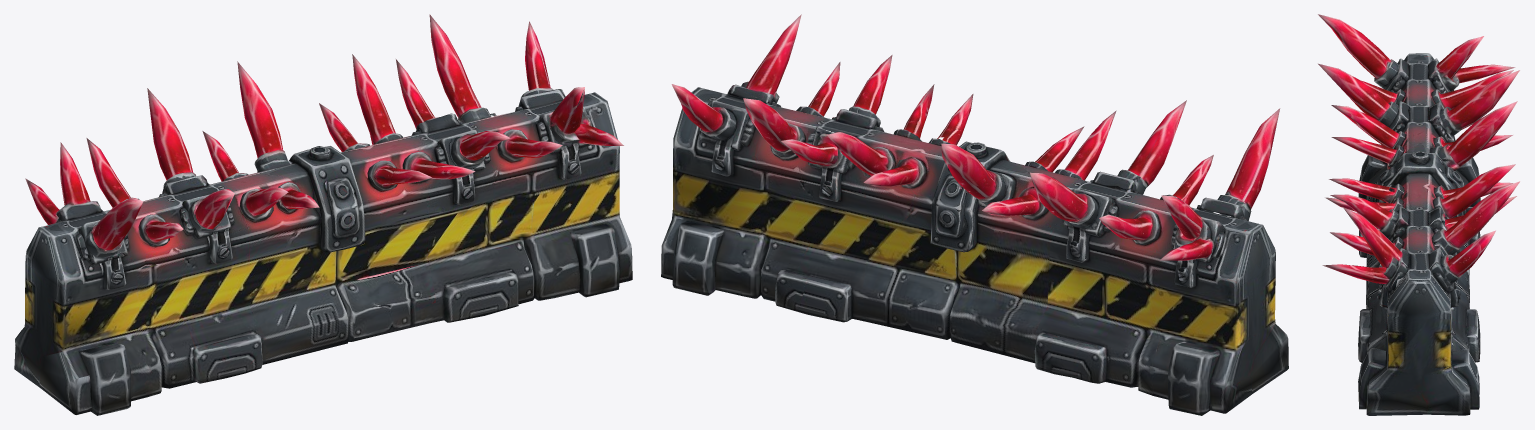
File: barricade.glb
3 views of the same model, side by side, from view 1: azimuth 30°, elevation 25°; view 2: azimuth 150°, elevation 25°; view 3: azimuth 270°, elevation 25° (orthographic). The views are drawn at different scales.
Bounding box in the file's own units: 1 × 0.3938 × 0.3782.
1 material, 1 textured.
